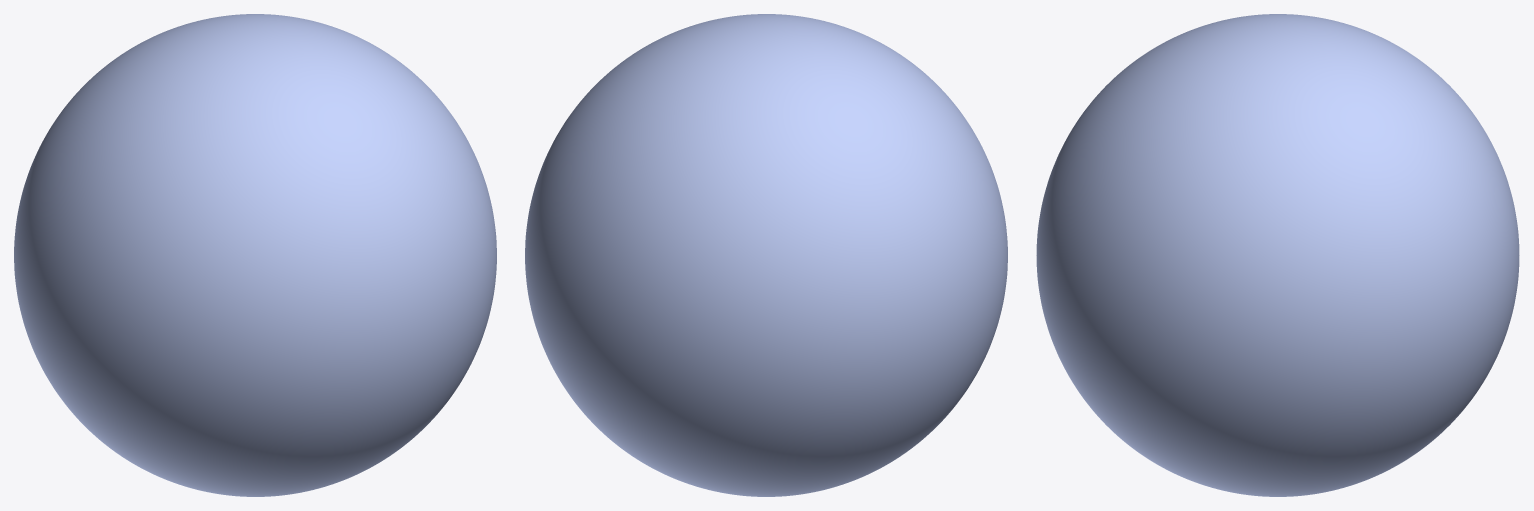
File: planet-01.glb
3 views of the same model, side by side, from view 1: azimuth 30°, elevation 25°; view 2: azimuth 150°, elevation 25°; view 3: azimuth 270°, elevation 25° (orthographic).
Parts seen in each view (by area): view 1: Sphere.001; view 2: Sphere.001; view 3: Sphere.001.
Part boxes in pixels (box(x1,y1,x2,y2)): Sphere.001: box(14, 14, 496, 496); Sphere.001: box(525, 14, 1007, 496); Sphere.001: box(1036, 14, 1519, 496).
Size of the model in its own units: 4088 by 4088 by 4088.
